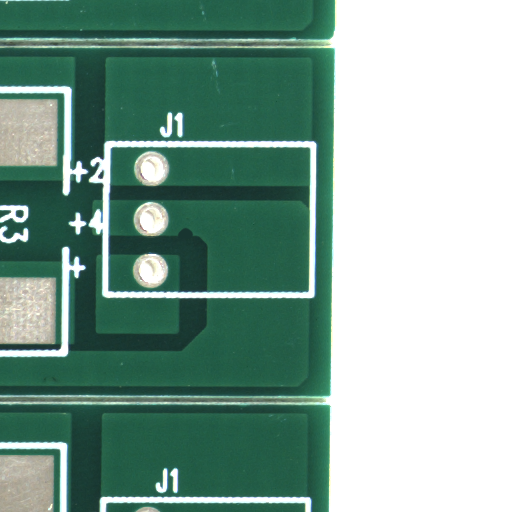Mouse_bite: (185, 232, 199, 243)
